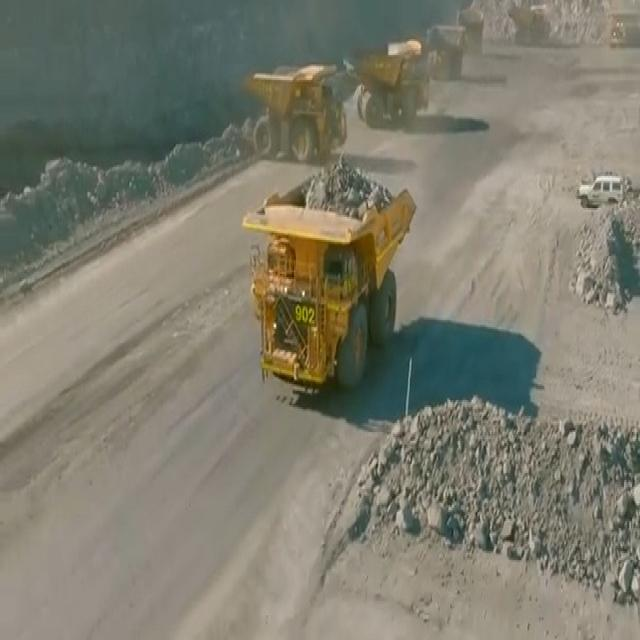dump_truck: (247, 163, 413, 389), (248, 58, 339, 161), (348, 37, 430, 133)
light_vehicle: (579, 171, 625, 210)
